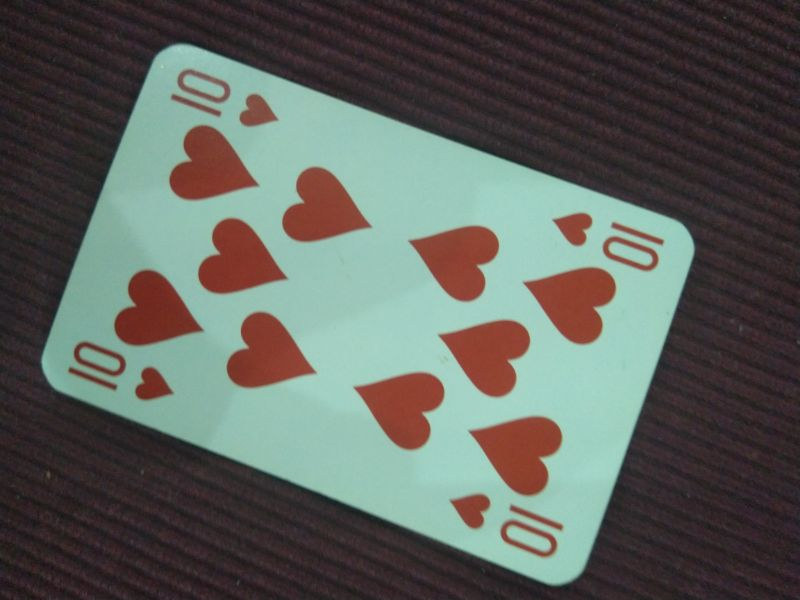Th: (446, 490, 568, 560), (549, 205, 668, 276), (63, 336, 177, 403), (167, 66, 284, 130)
